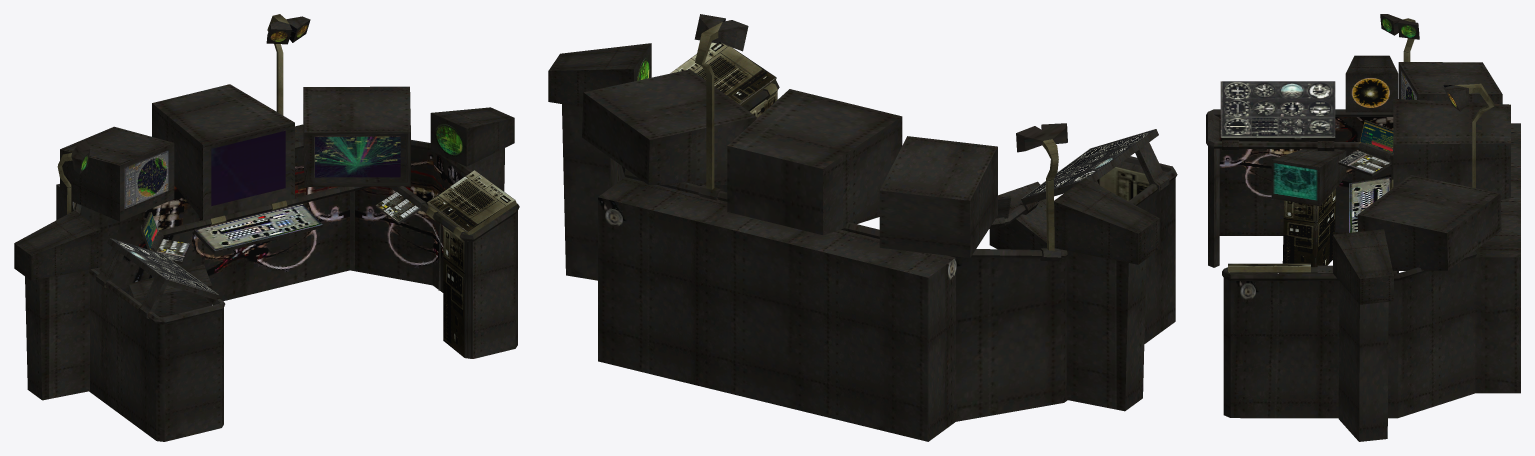
Rendered from fz_console2.fbx.
3 renders of one model, left to right at view 1: azimuth 30°, elevation 25°; view 2: azimuth 150°, elevation 25°; view 3: azimuth 270°, elevation 25°, orthographic. The views are drawn at different scales.
Parts seen in each view (by area): view 1: mesh_0; view 2: mesh_0; view 3: mesh_0.
Part boxes in pixels (x1,y1,x2,y2): mesh_0: (14, 14, 519, 441); mesh_0: (548, 14, 1177, 441); mesh_0: (1206, 14, 1520, 441).
Size of the model in its own units: 333 by 177 by 183.
Materials: 1 (1 with a texture image).
